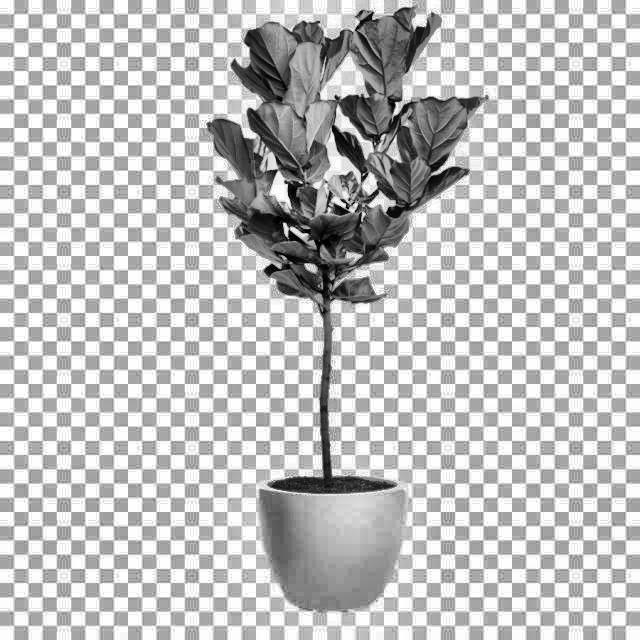plants: (203, 12, 478, 602)
